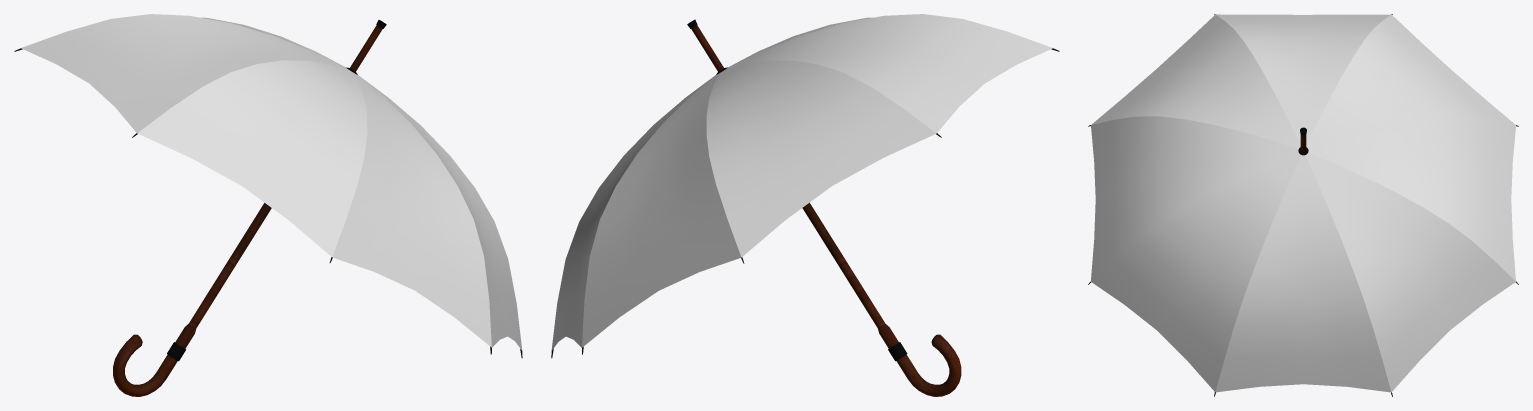
File: paraguas.gltf
3 renders of one model, left to right at view 1: azimuth 30°, elevation 25°; view 2: azimuth 150°, elevation 25°; view 3: azimuth 270°, elevation 25°, orthographic. The views are drawn at different scales.
Visible parts, largest first — view 1: Tela, Paraguas; view 2: Tela, Paraguas; view 3: Tela.
Boxes of the visible parts, left/top/right/bottom form: Tela: left=21, top=14, right=522, bottom=350; Paraguas: left=14, top=20, right=522, bottom=396; Tela: left=551, top=14, right=1052, bottom=350; Paraguas: left=551, top=19, right=1059, bottom=396; Tela: left=1091, top=14, right=1515, bottom=392.
Bounding box in the file's own units: 1.43 × 1.19 × 1.8.
Materials: 2 (1 with a texture image).
